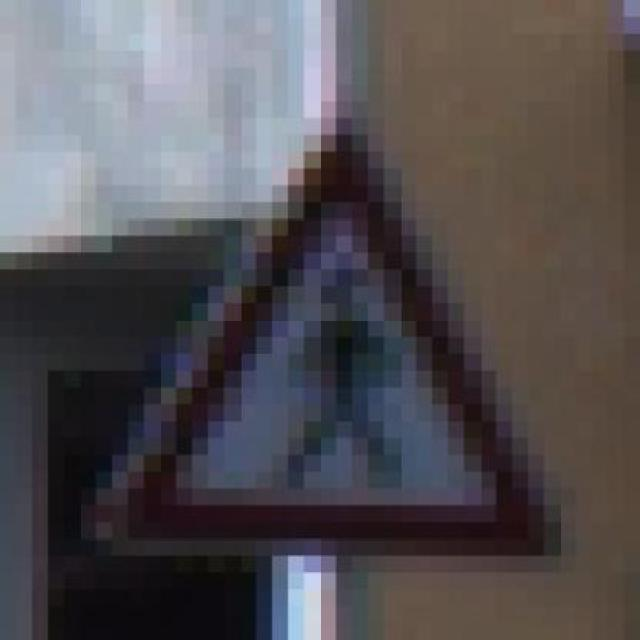Pedestrian Crossing: (96, 81, 576, 570)
